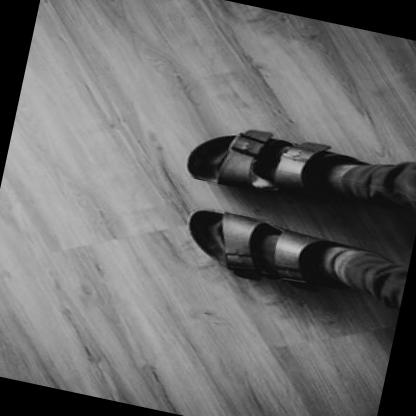ankle: (319, 251, 324, 256), (330, 184, 334, 187)
heel: (353, 200, 360, 205), (345, 245, 351, 250)
left_foot: (183, 204, 359, 296)
pinky: (232, 132, 246, 141), (229, 258, 240, 268)
right_foot: (189, 122, 373, 212)
toe: (208, 169, 220, 177), (207, 213, 218, 221)
